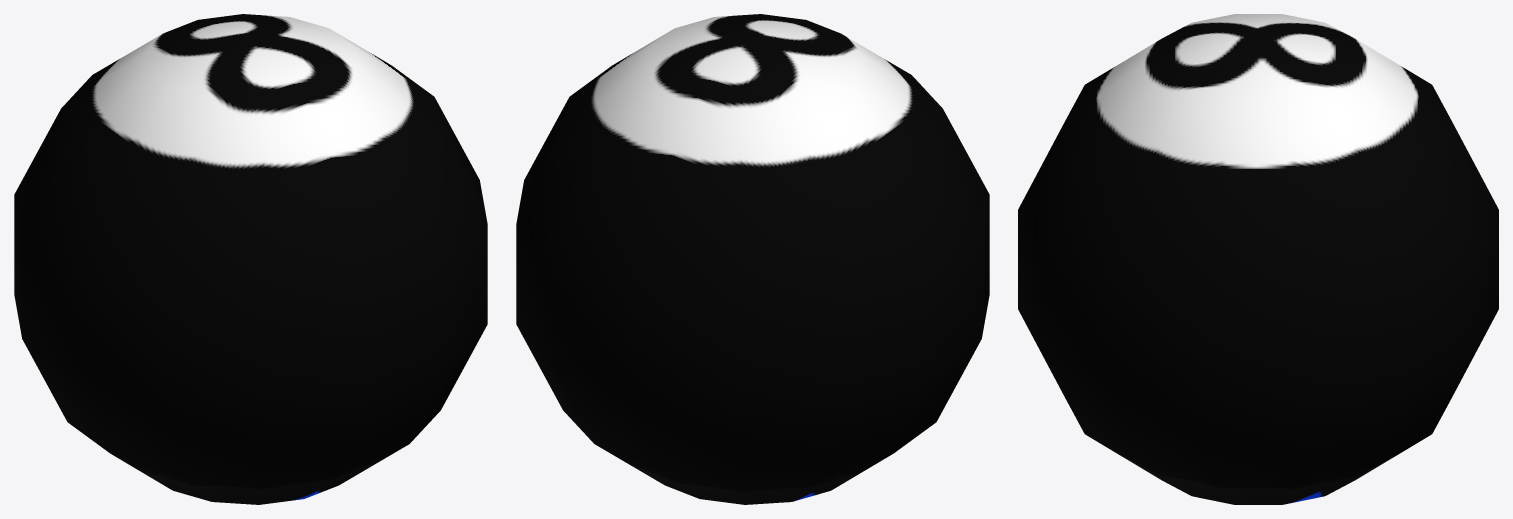
File: 8Ball.FBX
The picture shows the model from 3 angles, left to right: view 1: azimuth 30°, elevation 25°; view 2: azimuth 150°, elevation 25°; view 3: azimuth 270°, elevation 25°; orthographic projection.
Parts seen in each view (by area): view 1: Sphere001; view 2: Sphere001; view 3: Sphere001.
Part boxes in pixels (left/top/right/bottom): Sphere001: left=14, top=14, right=487, bottom=504; Sphere001: left=516, top=14, right=989, bottom=504; Sphere001: left=1018, top=14, right=1498, bottom=504.
Bounding box in the file's own units: 11.41 × 12 × 11.7.
